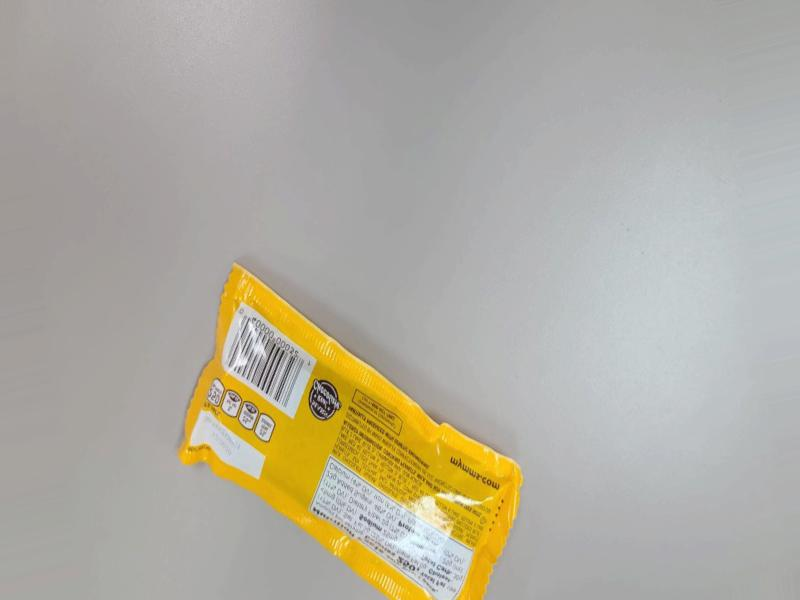m&m: (176, 241, 501, 600)
